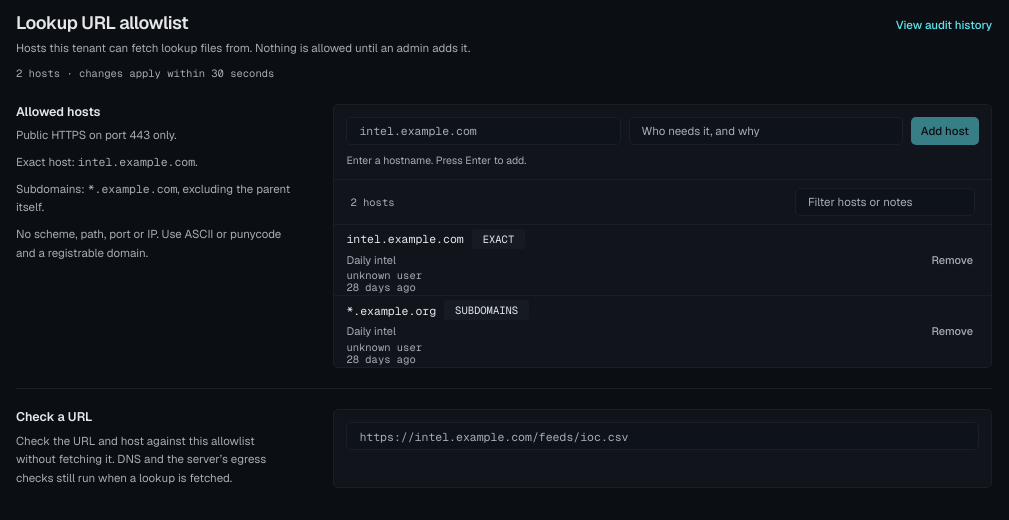
it: URL tester uses exact/wildcard rules and never fetches or echoes URL credentials
The width and height of the screenshot is (1009, 520).
Expected: the text titled "intel.example.com" below "Enter a hostname. Press Enter to add." is shown, [346, 231, 464, 246]
Type "https://intel.example.com/feeds.csv?sig=fixture-private" into the field named "URL to check". click: (663, 436)
box: [346, 422, 979, 450]
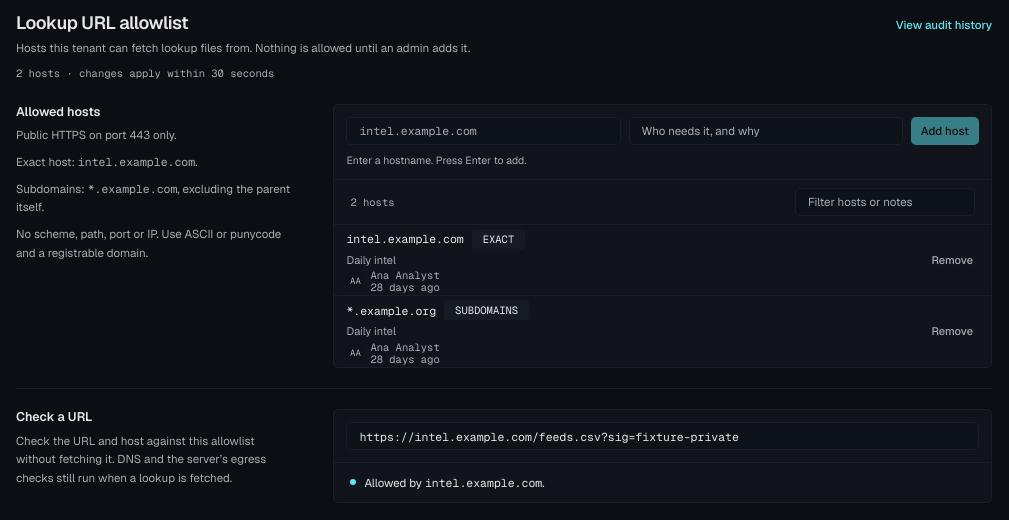
Expected: the message does not show "fixture-private"
Expected: the message reads "Allowed by intel.example.com.", [334, 462, 991, 502]
Replace the text in the field named "URL to check" with "https://a.example.org/x". click: (663, 436)
box: [346, 422, 979, 450]
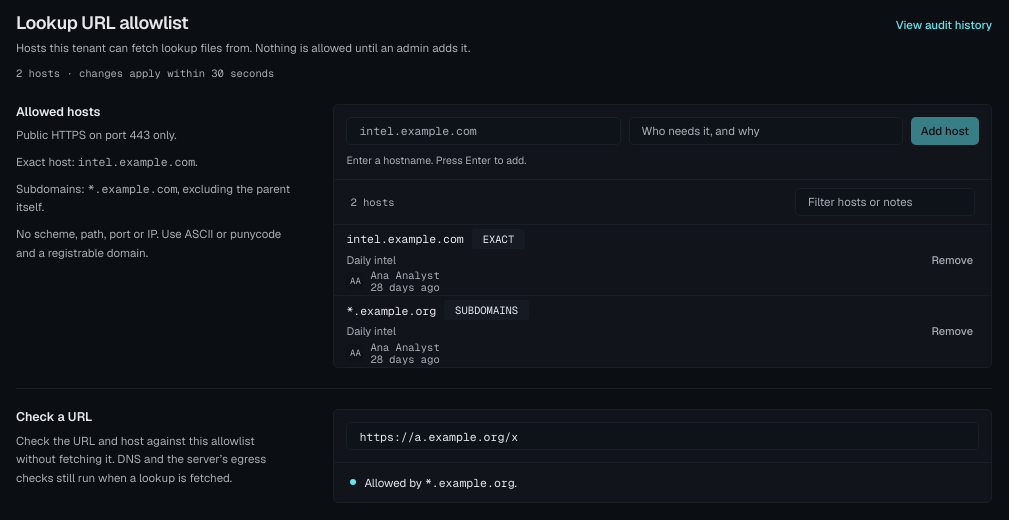
Expected: the message reads "Allowed by *.example.org.", [334, 462, 991, 502]
Replace the text in the field named "URL to check" with "https://example.org/x". click: (663, 436)
box: [346, 422, 979, 450]
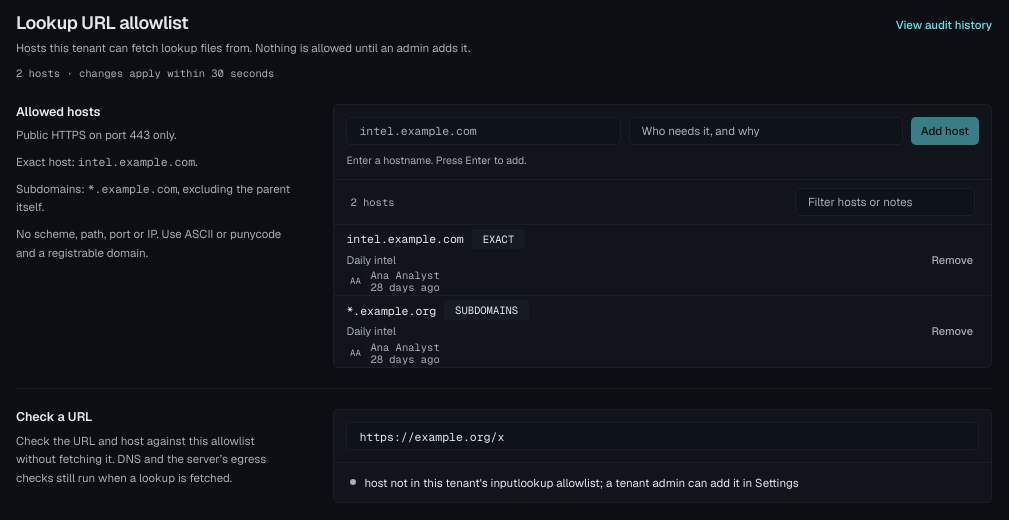
Expected: the message shows "host not in this tenant's", [364, 475, 799, 490]
Replace the text in the field named "URL to check" with "https://intel.example.com/bucket/../x". click: (663, 436)
box: [346, 422, 979, 450]
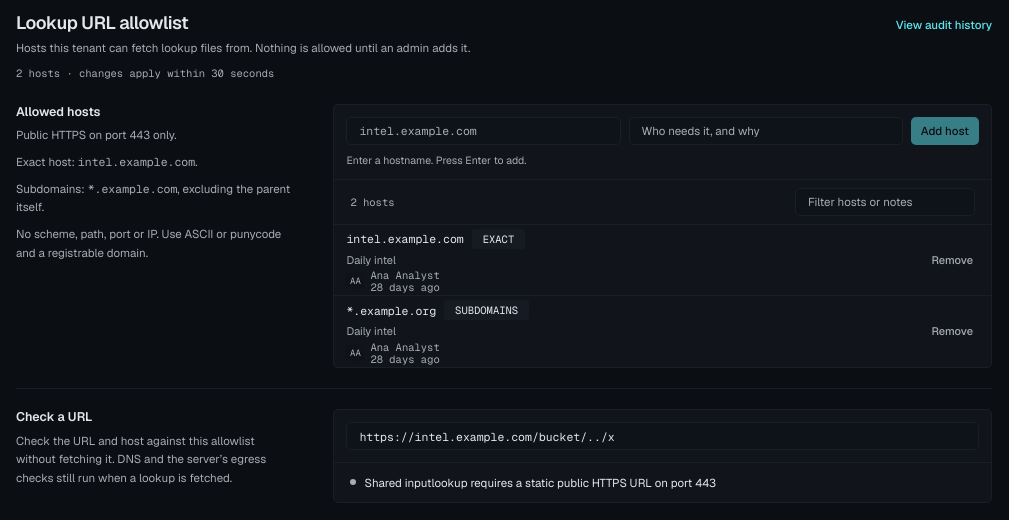
Expected: the message reads "Shared inputlookup requires a static public HTTPS URL on port 443", [364, 475, 716, 490]
